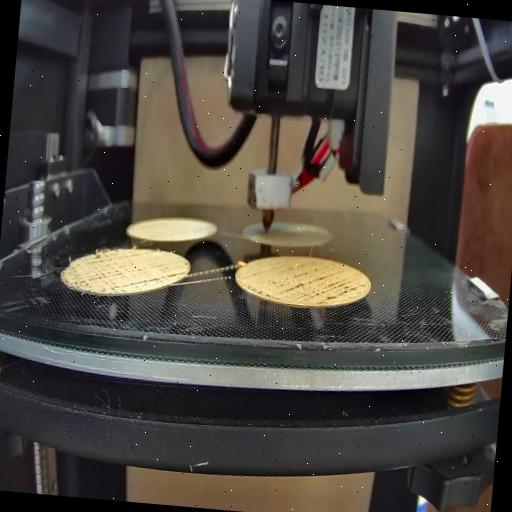under_extrusion: (248, 259, 370, 308), (70, 246, 188, 293)
